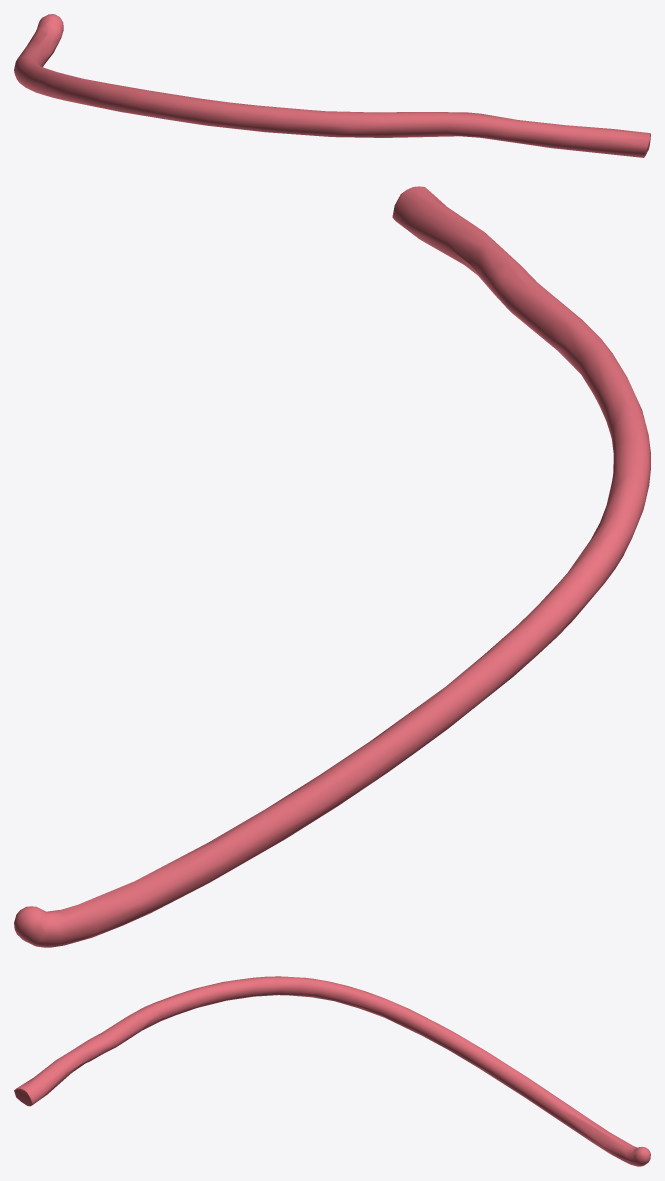
The model's file is fma77949_fj2274.glb.
3 renders of one model, top to bottom at view 1: azimuth 30°, elevation 25°; view 2: azimuth 150°, elevation 25°; view 3: azimuth 270°, elevation 25°, orthographic. The views are drawn at different scales.
Visible parts, largest first — view 1: FMA77949_FJ2274; view 2: FMA77949_FJ2274; view 3: FMA77949_FJ2274.
Boxes of the visible parts, x1,y1,x2,y2 form: FMA77949_FJ2274: [14, 14, 650, 157]; FMA77949_FJ2274: [14, 186, 650, 947]; FMA77949_FJ2274: [14, 976, 650, 1166].
Size of the model in its own units: 0.024 by 0.0126 by 0.0509.
